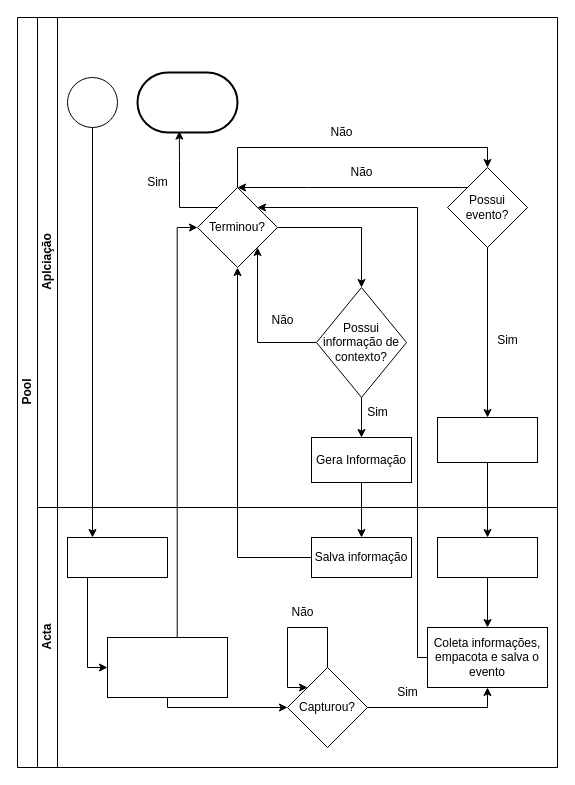
Some shapes in this 575 by 785 pixel diagram are drawn without their labels. The shapes that lost their labels are listed below. From the top down, each one's centre as x and y in pixels, then its label:
pixel 187 102: Fim
pixel 487 439: Gera Evento
pixel 117 557: Inicialização
pixel 487 557: Salva Evento
pixel 167 667: Incializa capturas
